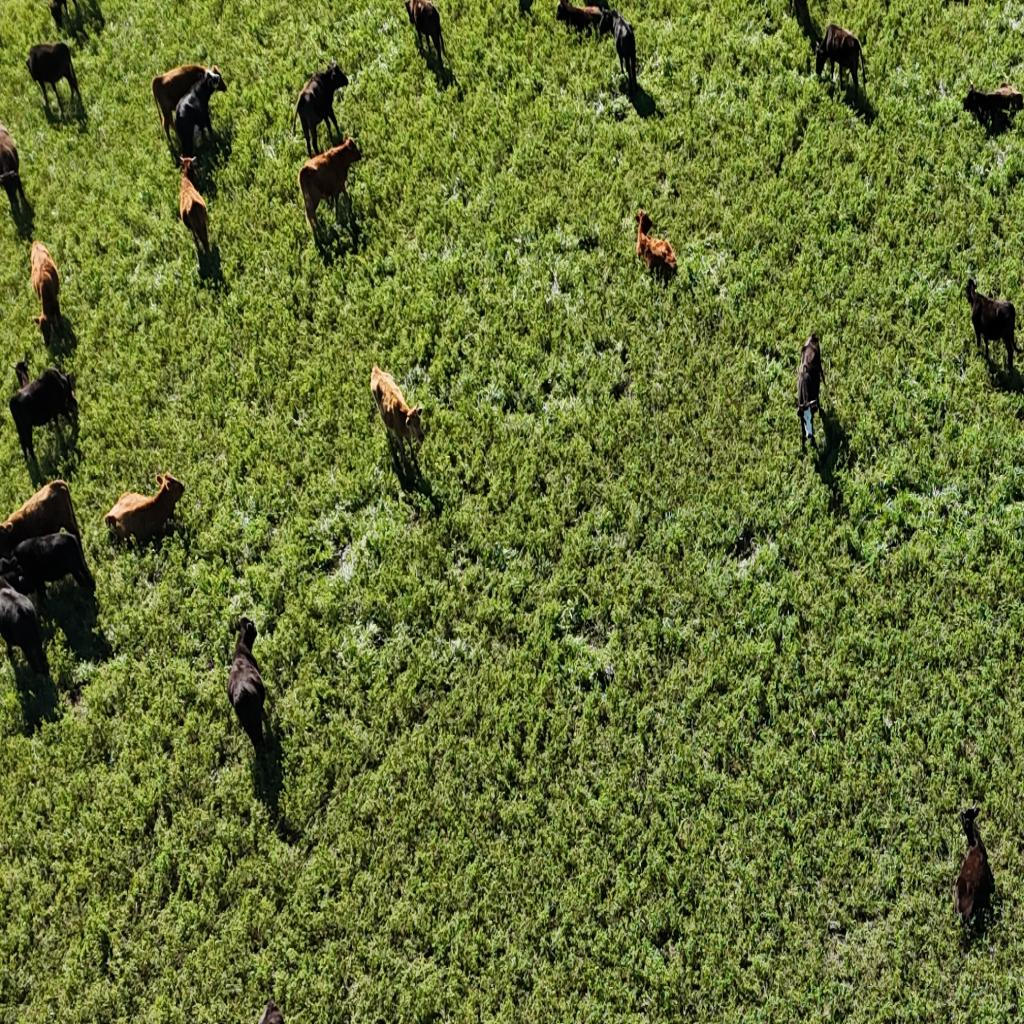cow: (42, 580, 116, 687), (7, 358, 79, 464), (105, 470, 189, 555), (297, 131, 363, 239), (4, 525, 94, 599), (2, 478, 84, 557), (225, 613, 267, 759), (370, 358, 428, 458), (294, 60, 350, 158), (0, 569, 47, 680), (173, 65, 226, 160), (953, 804, 993, 929), (965, 278, 1019, 370), (791, 330, 828, 456), (26, 42, 81, 116), (393, 437, 442, 519), (631, 204, 678, 288), (814, 21, 866, 94), (596, 4, 636, 92), (28, 240, 61, 342), (964, 81, 1022, 136), (178, 157, 209, 258), (0, 121, 28, 217), (404, 0, 446, 62), (556, 0, 605, 40), (42, 308, 78, 358), (621, 76, 659, 121), (0, 548, 29, 598), (255, 998, 285, 1024), (44, 0, 69, 30)
